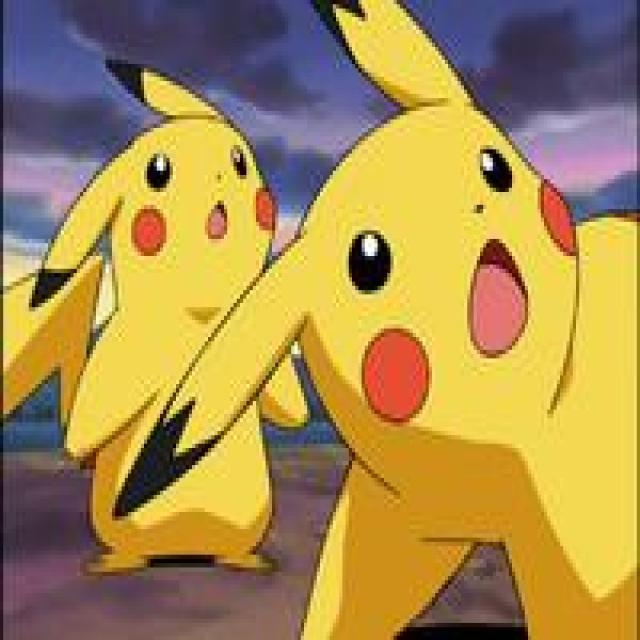pikachu: (116, 0, 640, 640), (0, 51, 317, 572)
